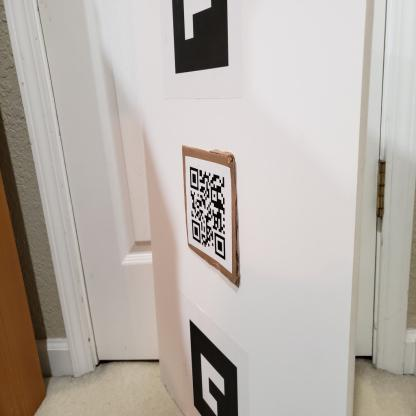qr: (186, 161, 232, 264)
